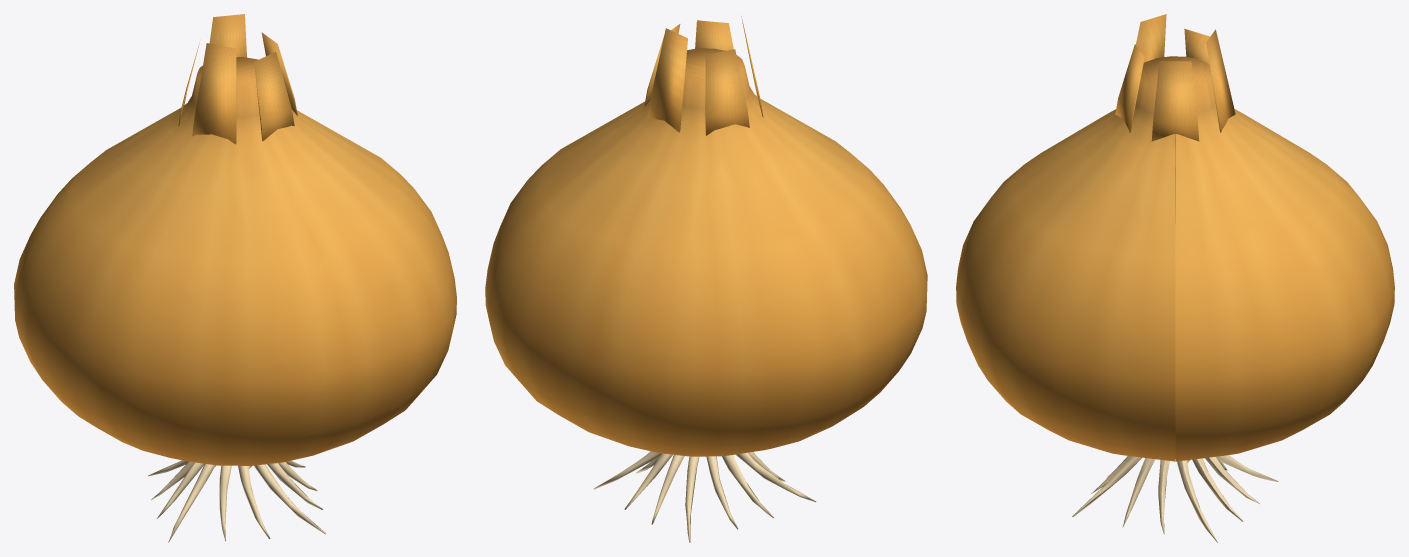
The model's file is NP_Onion_Harvest_LOD1.fbx.
3 views of the same model, side by side, from view 1: azimuth 30°, elevation 25°; view 2: azimuth 150°, elevation 25°; view 3: azimuth 270°, elevation 25° (orthographic).
Visible parts, largest first — view 1: NP_Onion_Harvest; view 2: NP_Onion_Harvest; view 3: NP_Onion_Harvest.
Boxes of the visible parts, x1,y1,x2,y2 form: NP_Onion_Harvest: (14, 14, 456, 542); NP_Onion_Harvest: (485, 16, 927, 542); NP_Onion_Harvest: (956, 14, 1394, 542).
Bounding box in the file's own units: 43.46 × 51.28 × 43.47.
